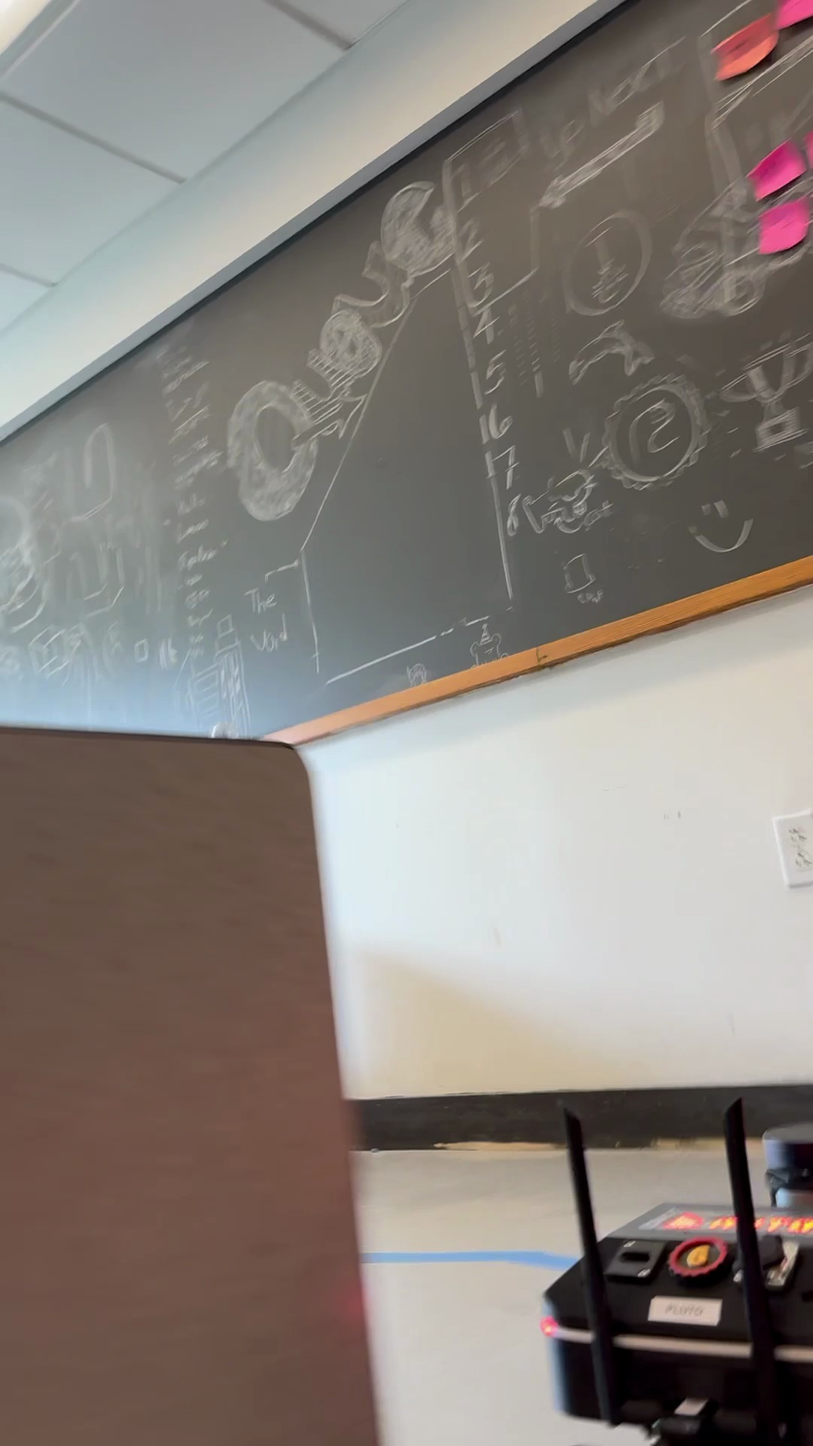racecar: (539, 1097, 811, 1446)
